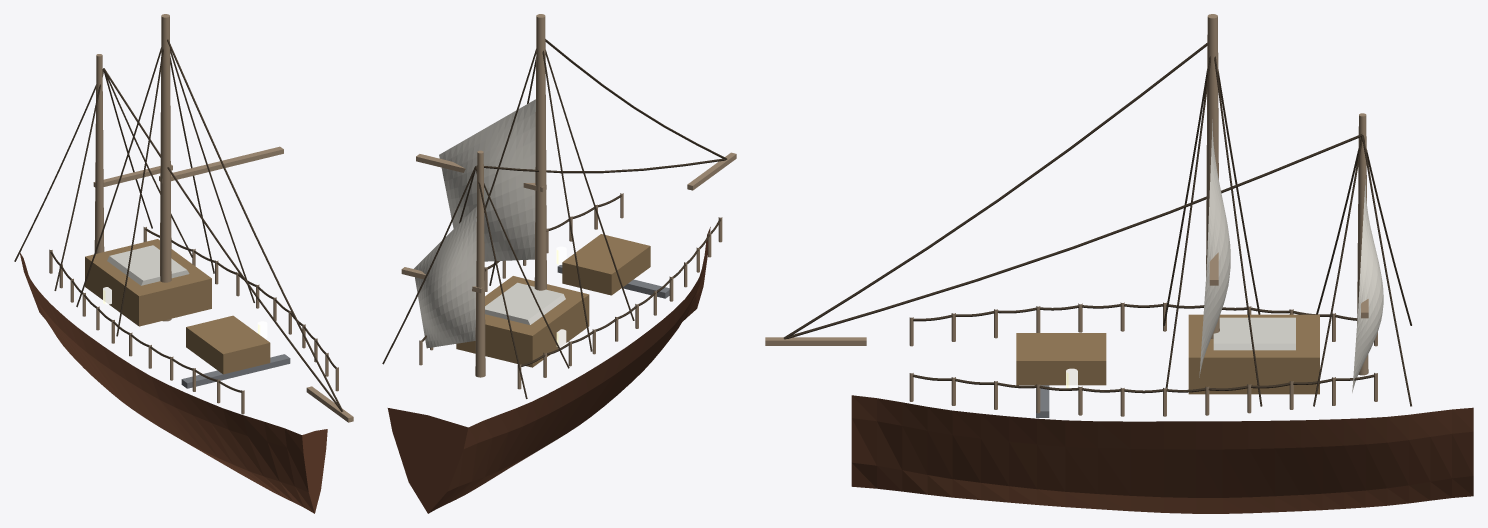
Rendered from showcase-brigantine.gltf.
3 renders of one model, left to right at view 1: azimuth 30°, elevation 25°; view 2: azimuth 150°, elevation 25°; view 3: azimuth 270°, elevation 25°, orthographic. The views are drawn at different scales.
Visible parts, largest first — view 1: brigantine-hull, brigantine-rig; view 2: brigantine-rig, brigantine-hull; view 3: brigantine-hull, brigantine-rig.
Boxes of the visible parts, x1=… form: brigantine-hull: x1=20, y1=239, x2=327, y2=513; brigantine-rig: x1=14, y1=14, x2=353, y2=422; brigantine-rig: x1=382, y1=14, x2=736, y2=398; brigantine-hull: x1=387, y1=227, x2=710, y2=513; brigantine-hull: x1=851, y1=314, x2=1473, y2=513; brigantine-rig: x1=765, y1=14, x2=1411, y2=417.
Bounding box in the file's own units: 3.76 × 7.33 × 9.45.
